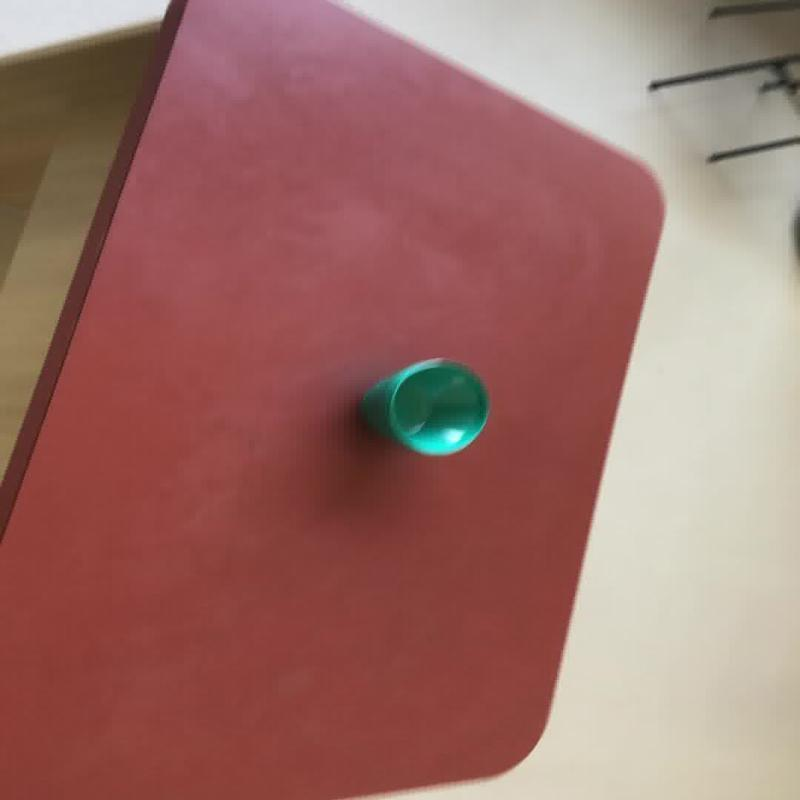bowl: (1, 0, 665, 798), (357, 356, 490, 456)
